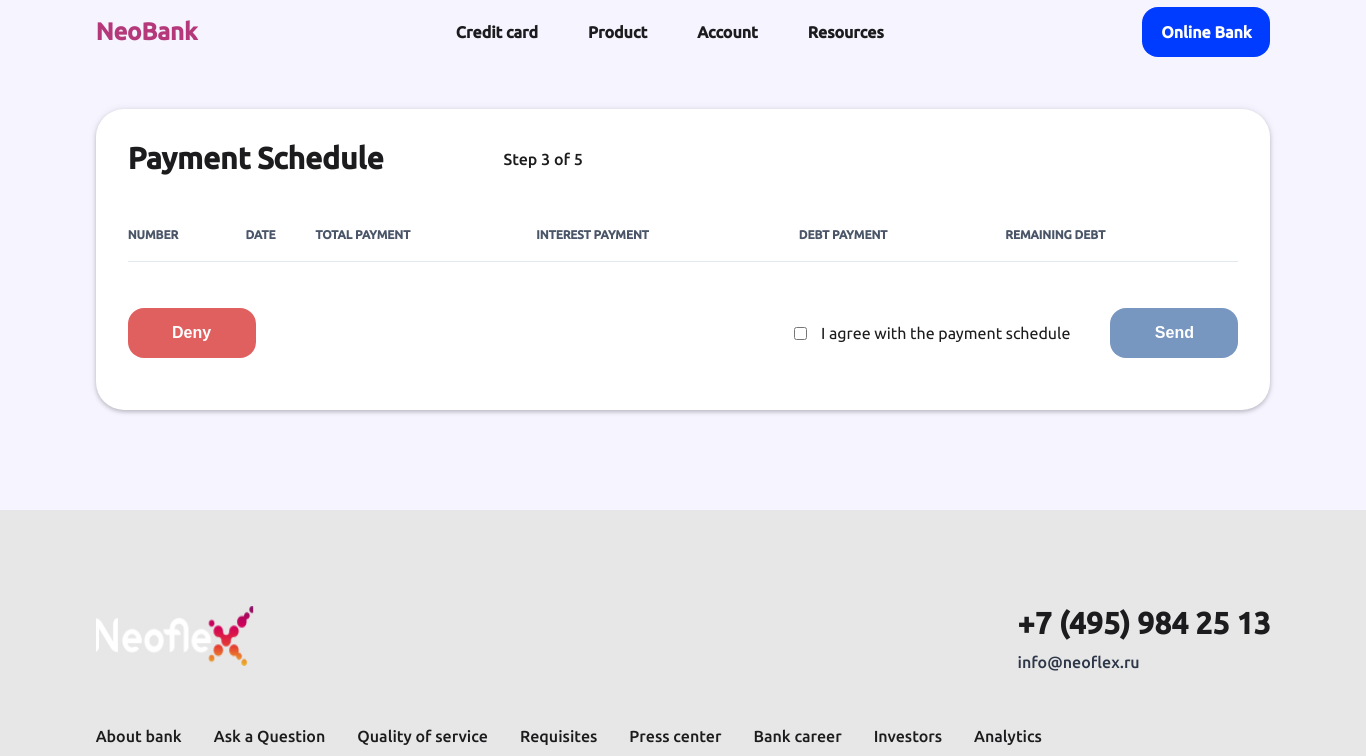
Test case: PaymentSchedule › Open/close modal
What coordinates should you click on to do the following:
click the button "Deny"
I would click on:
 (192, 333)
Its box is [128,308,256,358].
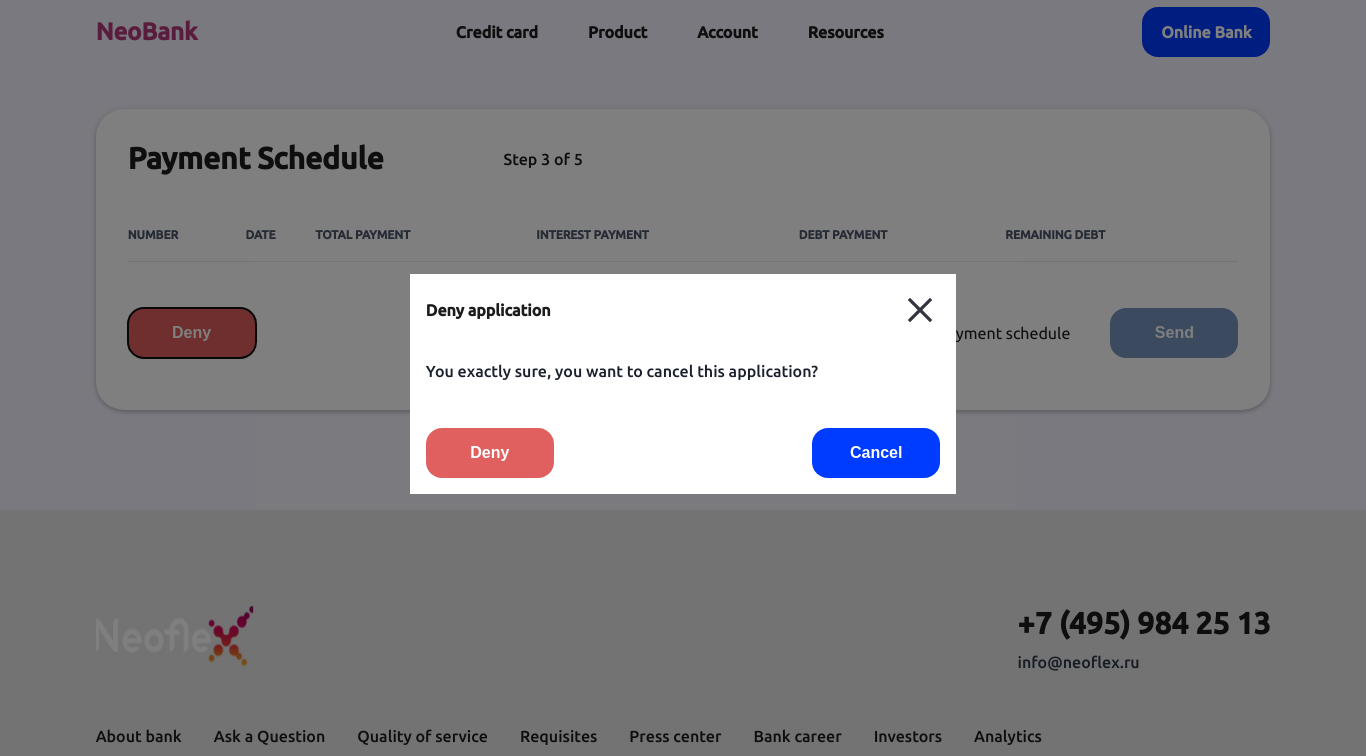
Expected: the text "You exactly sure, you want to cancel this application?" is shown, [426,362,818,380]
What coordinates should you click on to do the following:
click the button "Cancel"
I would click on:
 (876, 453)
Its box is [812,428,940,478].
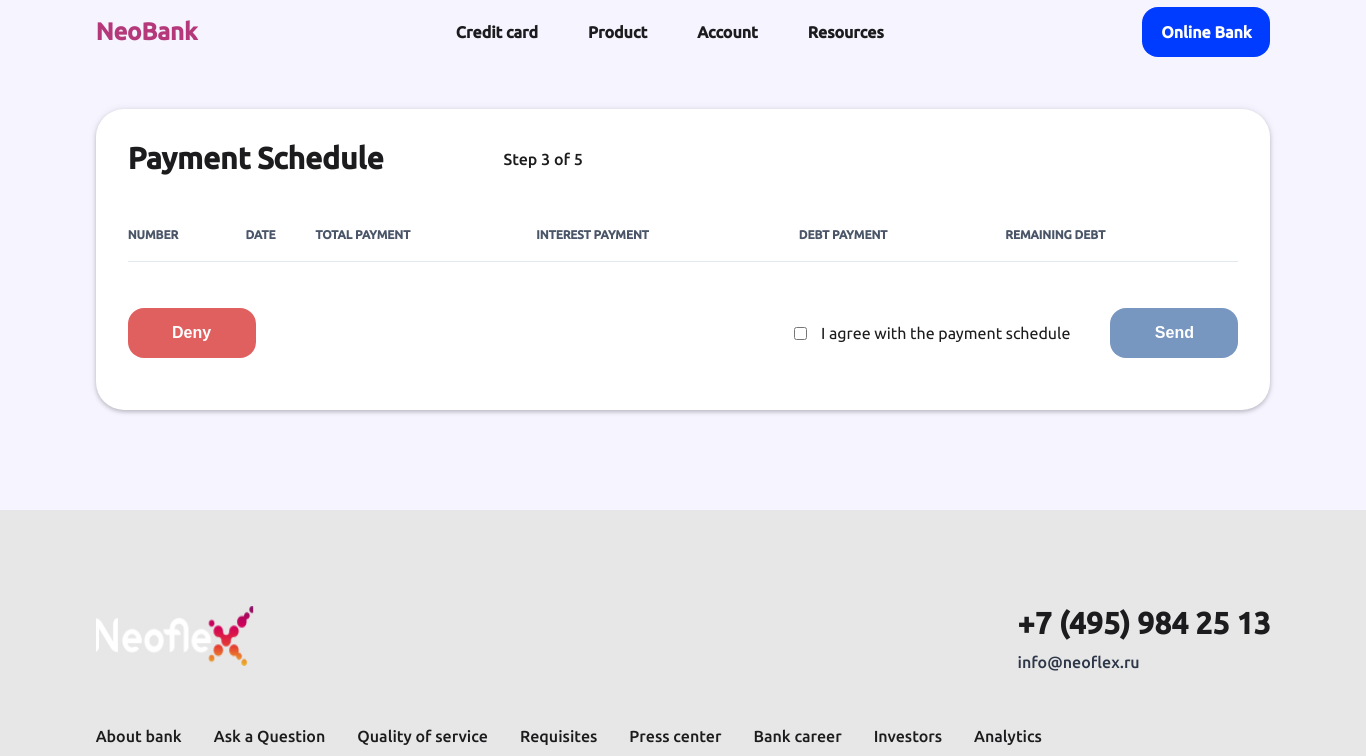
Expected: the text "You exactly sure, you want to cancel this application?" is gone
